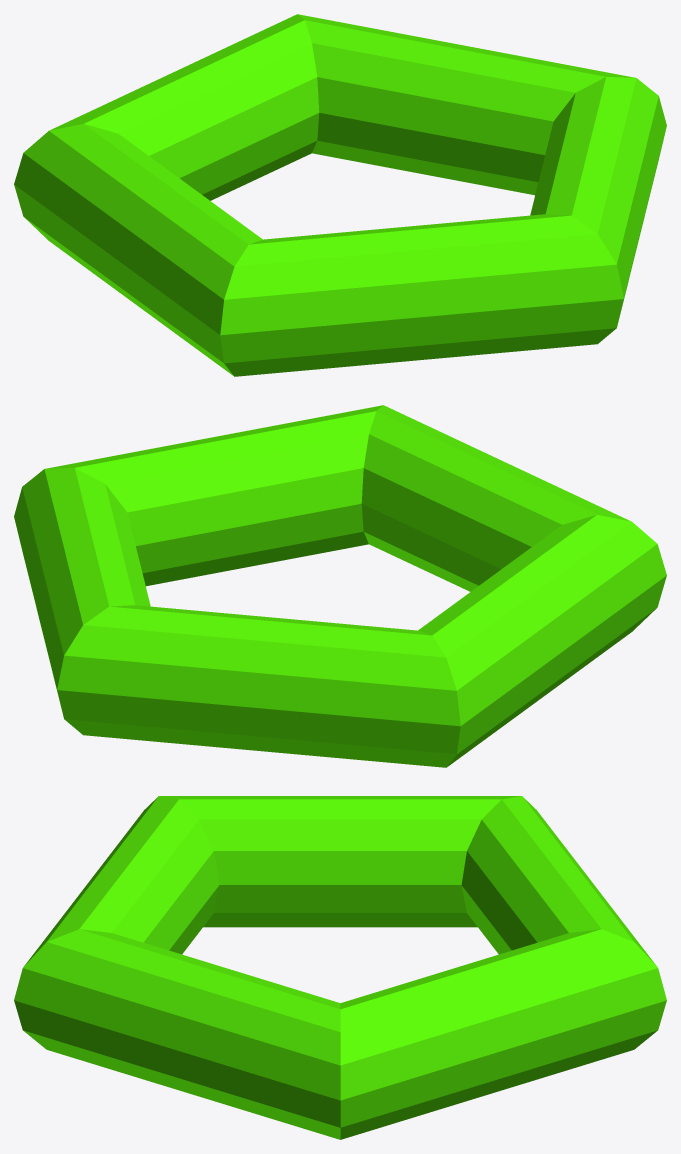
The picture shows the model from 3 angles, top to bottom: view 1: azimuth 30°, elevation 25°; view 2: azimuth 150°, elevation 25°; view 3: azimuth 270°, elevation 25°; orthographic projection. The views are drawn at different scales.
Parts seen in each view (by area): view 1: Torus; view 2: Torus; view 3: Torus.
Boxes of the visible parts, x1,y1,x2,y2 form: Torus: (14, 14, 666, 376); Torus: (14, 405, 666, 767); Torus: (14, 796, 666, 1139).
Size of the model in its own units: 22.12 by 23.26 by 4.89.
